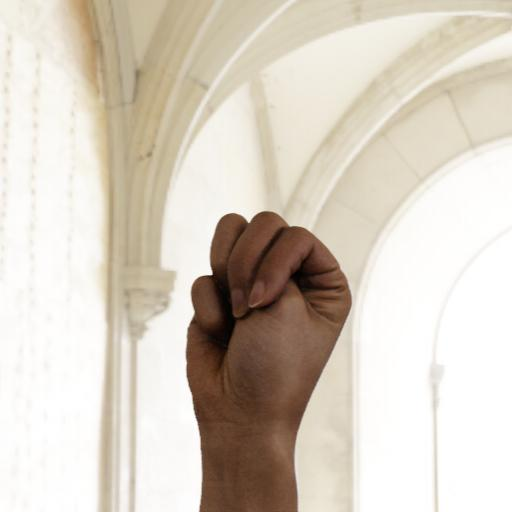M: (184, 202, 408, 451)
